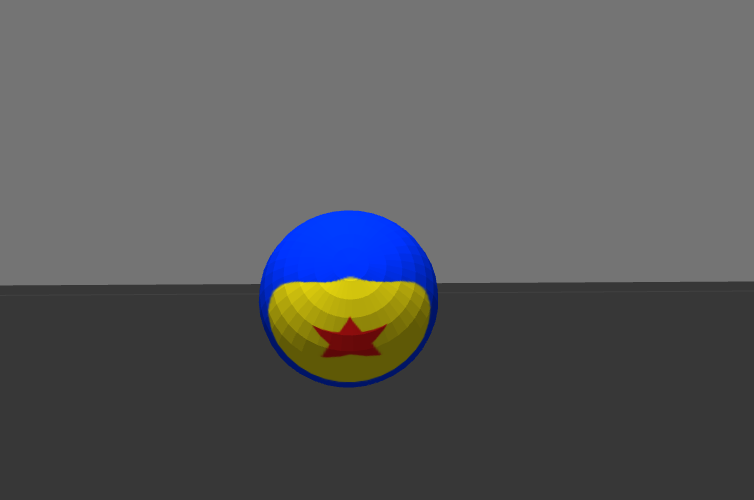toy story ball: (257, 211, 438, 388)
